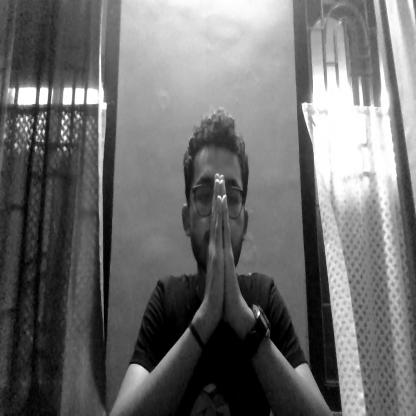Distracted: (181, 99, 256, 304)
